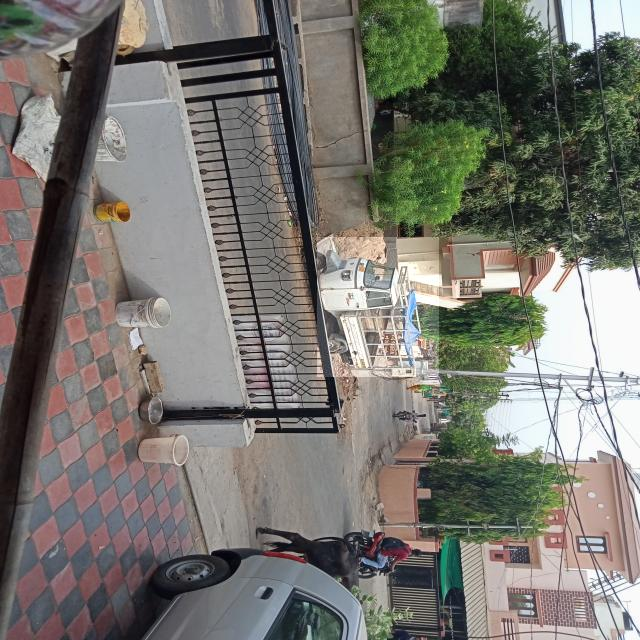Travller: (318, 237, 440, 377)
